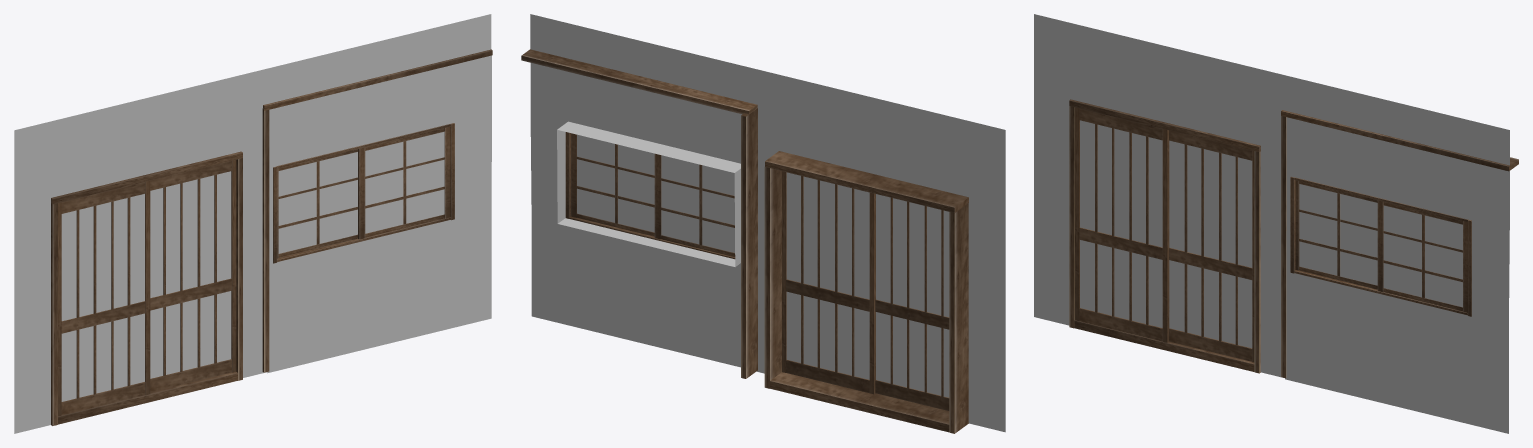
File: shop_f_null10b.fbx
The picture shows the model from 3 angles, left to right: view 1: azimuth 30°, elevation 25°; view 2: azimuth 150°, elevation 25°; view 3: azimuth 330°, elevation 25°; orthographic projection.
Visible parts, largest first — view 1: shop_f_null10b; view 2: shop_f_null10b; view 3: shop_f_null10b.
Part boxes in pixels (x1,y1,x2,y2): shop_f_null10b: [14, 14, 492, 433]; shop_f_null10b: [521, 14, 1005, 433]; shop_f_null10b: [1034, 14, 1518, 433].
Size of the model in its own units: 544 by 331 by 31.
